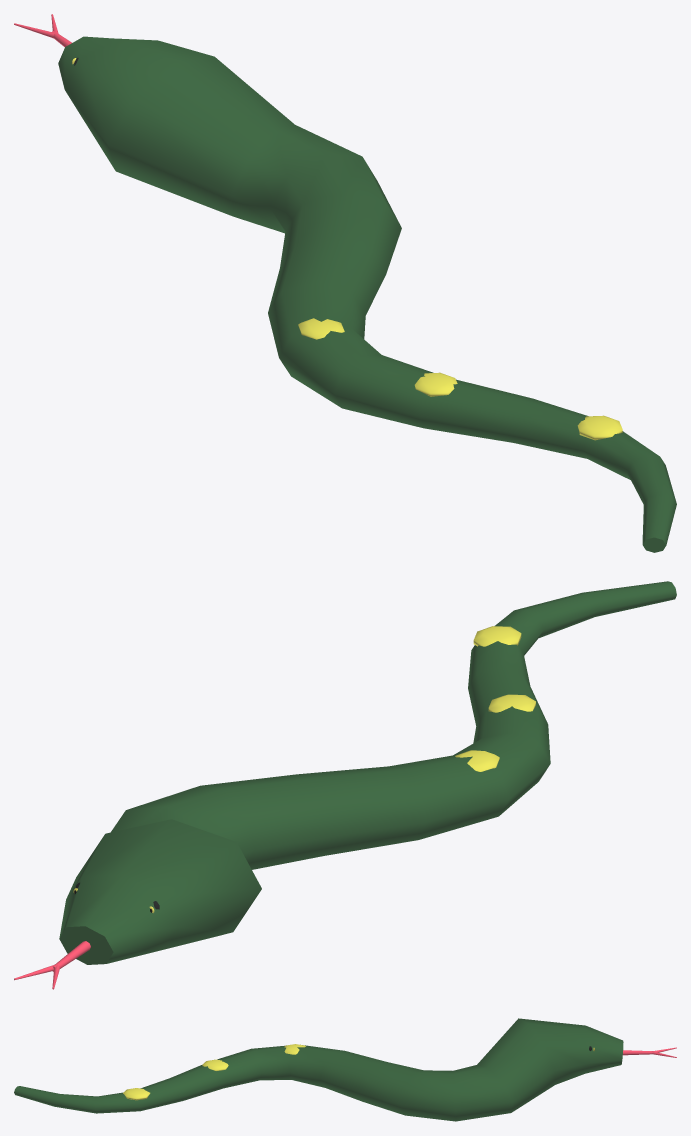
The model's file is snake_mobile.glb.
The picture shows the model from 3 angles, top to bottom: view 1: azimuth 30°, elevation 25°; view 2: azimuth 150°, elevation 25°; view 3: azimuth 270°, elevation 25°; orthographic projection. The views are drawn at different scales.
Visible parts, largest first — view 1: SnakeOrganicBody, BackMark_00; view 2: SnakeOrganicBody, BackMark_00, BackMark_01, BackMark_02; view 3: SnakeOrganicBody, BackMark_00, BackMark_01.
Part boxes in pixels (x1,y1,x2,y2): SnakeOrganicBody: (58, 36, 676, 552); BackMark_00: (577, 415, 622, 440); SnakeOrganicBody: (59, 581, 676, 964); BackMark_00: (473, 626, 521, 646); BackMark_01: (488, 694, 535, 712); BackMark_02: (455, 750, 499, 771); SnakeOrganicBody: (14, 1018, 623, 1121); BackMark_00: (123, 1088, 150, 1100); BackMark_01: (202, 1059, 228, 1070).
Size of the model in its own units: 1.27 by 0.6968 by 5.62.
